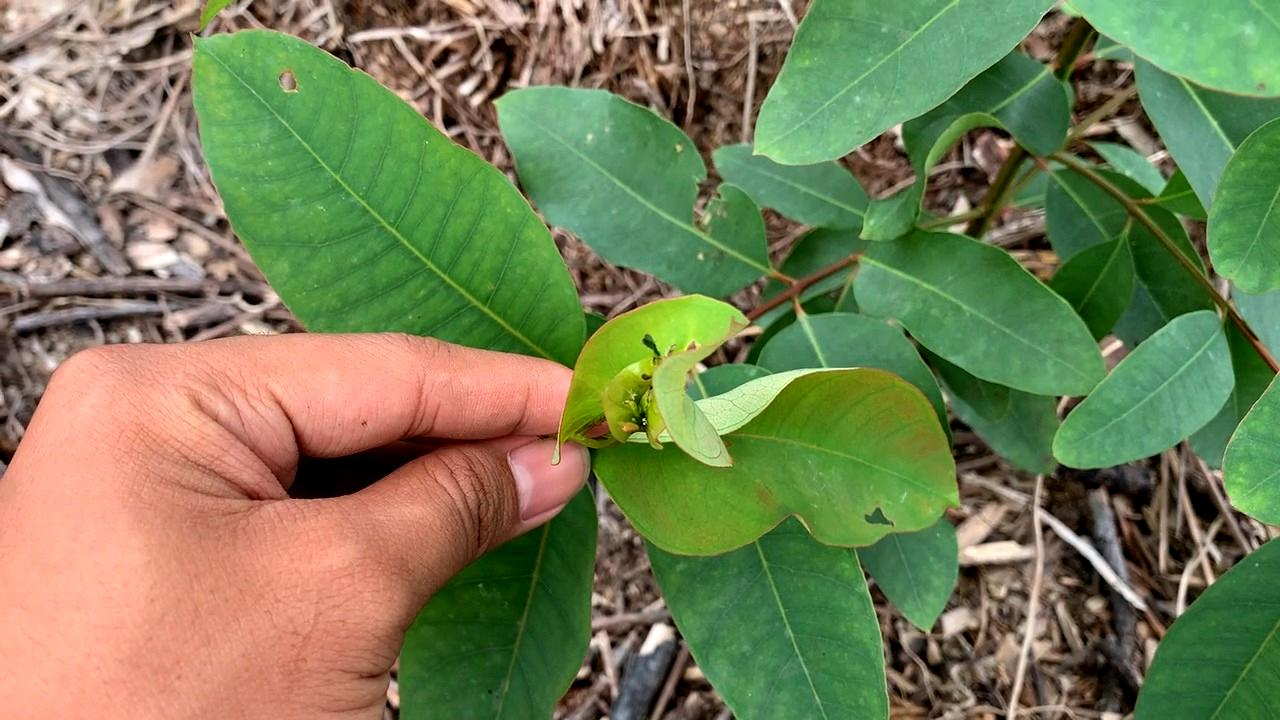Leaf Roller - Leaf: (538, 292, 759, 495)
